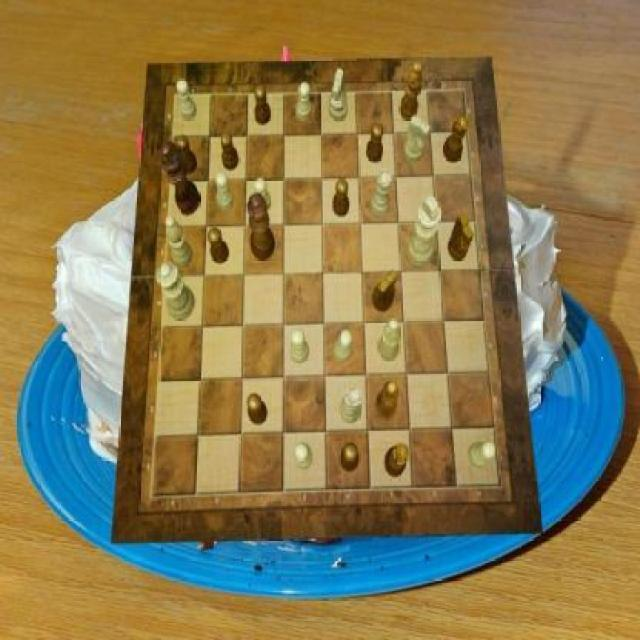bishop: (400, 63, 423, 122), (377, 380, 400, 420)
black-bishop: (162, 142, 202, 216)
black-king: (448, 212, 474, 262), (372, 269, 397, 312)
black-knight: (176, 134, 197, 174), (220, 131, 239, 169), (208, 228, 228, 264), (255, 85, 272, 126), (248, 394, 268, 426), (368, 123, 384, 163), (334, 179, 351, 216), (340, 445, 360, 472)
black-pawn: (248, 194, 277, 261)
black-queen: (443, 114, 469, 161), (385, 442, 409, 476)
black-rook: (166, 217, 194, 269), (378, 318, 402, 361)
white-bishop: (408, 197, 440, 269)
white-king: (404, 115, 432, 163), (329, 69, 348, 122)
white-knight: (177, 80, 197, 122), (469, 442, 497, 468), (216, 172, 234, 211), (296, 83, 312, 123), (290, 329, 308, 364), (254, 179, 271, 213), (334, 331, 351, 363), (294, 443, 313, 469)
white-pawn: (156, 262, 194, 322)
white-queen: (369, 169, 392, 217), (340, 386, 363, 424)
